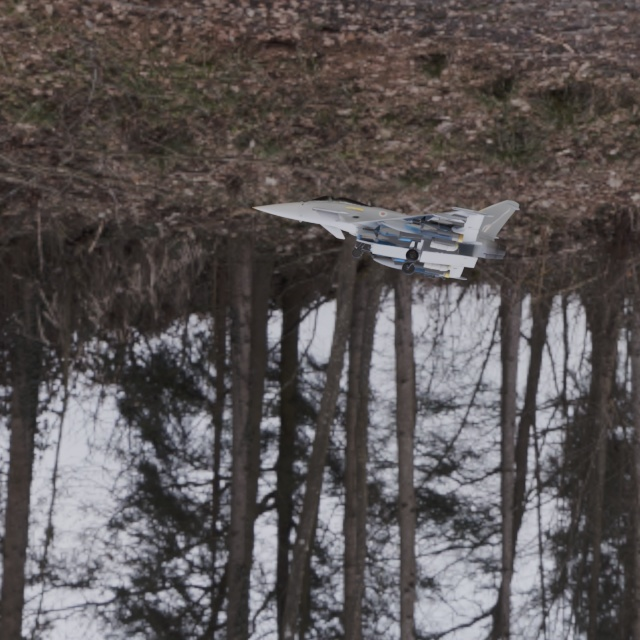eurofighter_typhoon_3d: (244, 112, 538, 316)
